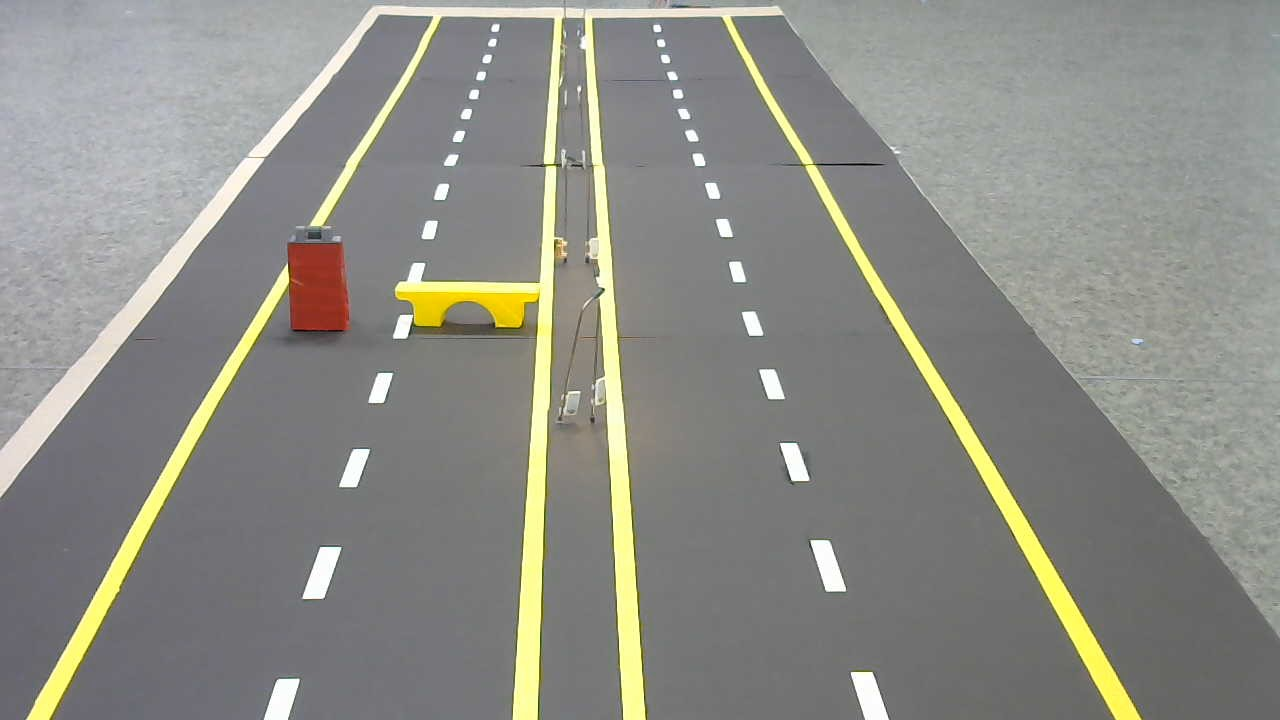accident: (282, 222, 356, 335)
emergency_situation: (392, 274, 545, 336)
